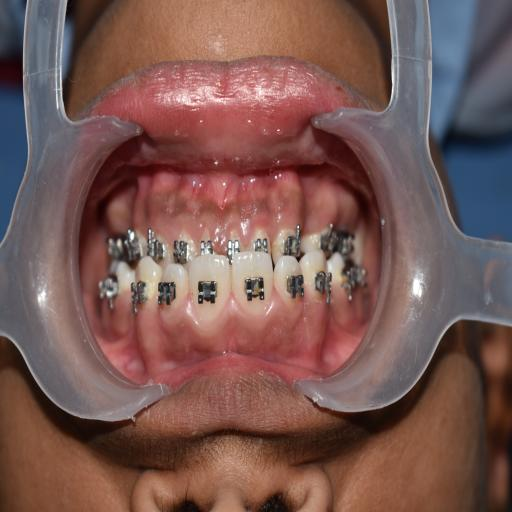correct_brace: (195, 276, 219, 308), (242, 273, 266, 304), (282, 271, 304, 304), (155, 278, 177, 307)
incorrect_brace: (274, 253, 306, 327), (154, 261, 188, 326)
